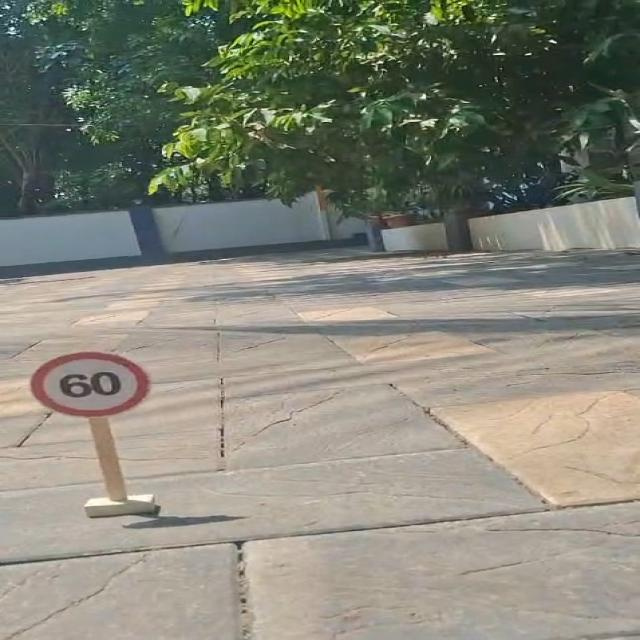Speed60: (25, 350, 157, 420)
